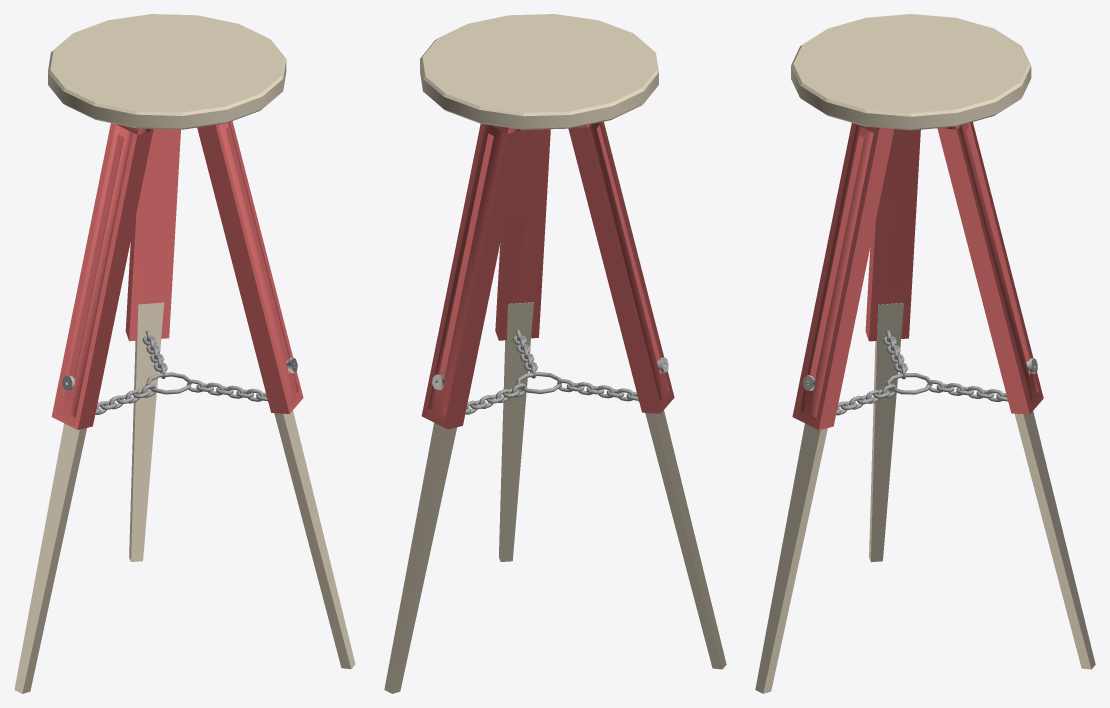
Rendered from TripodeProyector_PuzzleFinal.fbx.
The picture shows the model from 3 angles, left to right: view 1: azimuth 30°, elevation 25°; view 2: azimuth 150°, elevation 25°; view 3: azimuth 270°, elevation 25°; orthographic projection.
Parts seen in each view (by area): view 1: Pata111.001, CadenaBase; view 2: Pata111.001, CadenaBase; view 3: Pata111.001, CadenaBase.
Part boxes in pixels (x1,y1,x2,y2): Pata111.001: (14,14,355,693); CadenaBase: (95,330,267,414); Pata111.001: (384,14,726,693); CadenaBase: (465,329,638,414); Pata111.001: (755,14,1095,693); CadenaBase: (836,330,1008,415).
Bounding box in the file's own units: 33.85 × 65.97 × 35.4.
